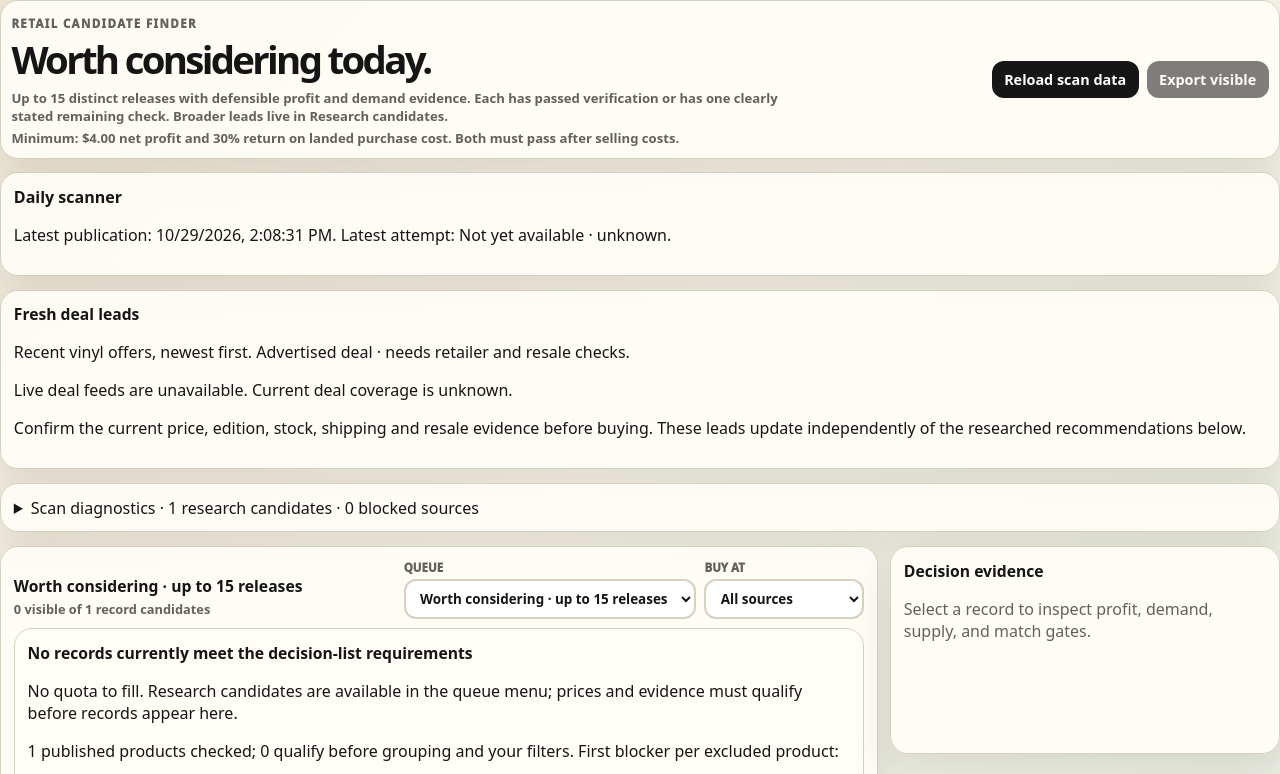
Test: arbitrage pages › does not display an expired album range from a retained publication
Select "Research candidates" in the dropdown labelled "Queue": (550,599) [404,579,696,619]
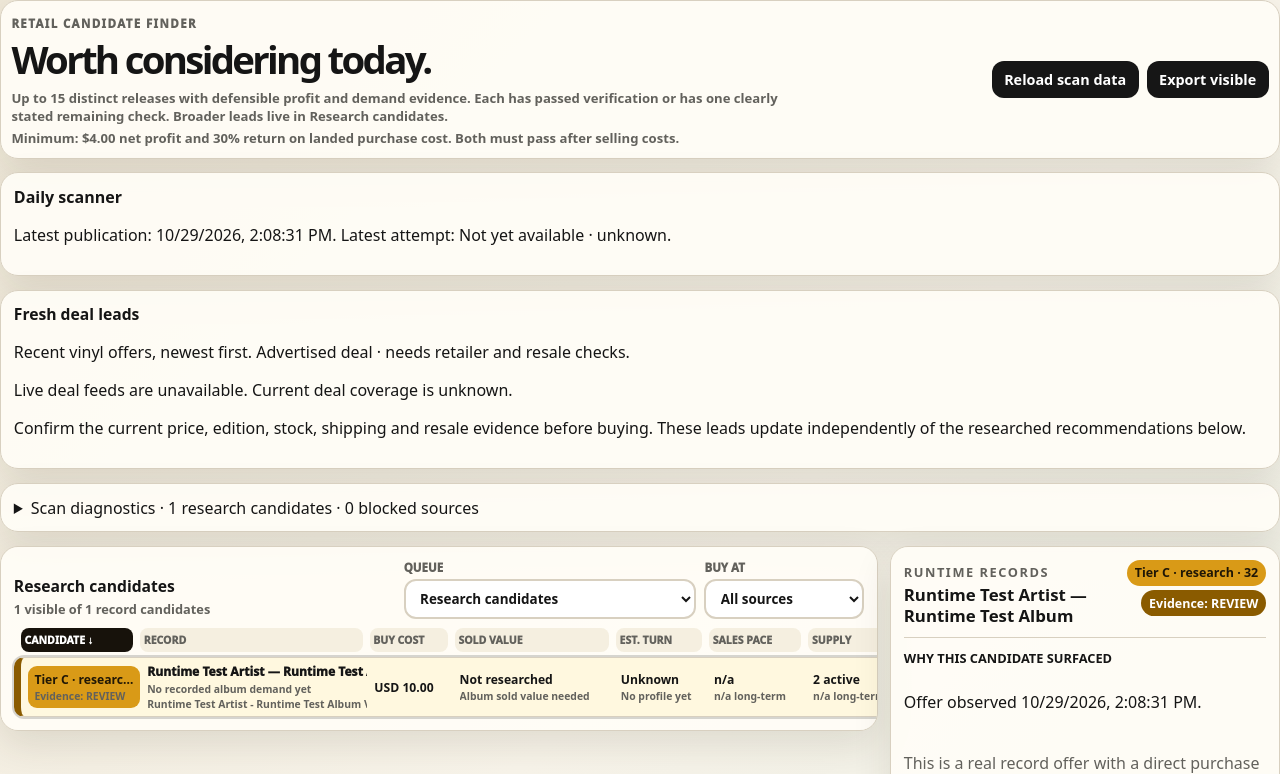
Check: the element with class "arbitrage-sold-value" shows "Not researched", box [460,671,553,688]
